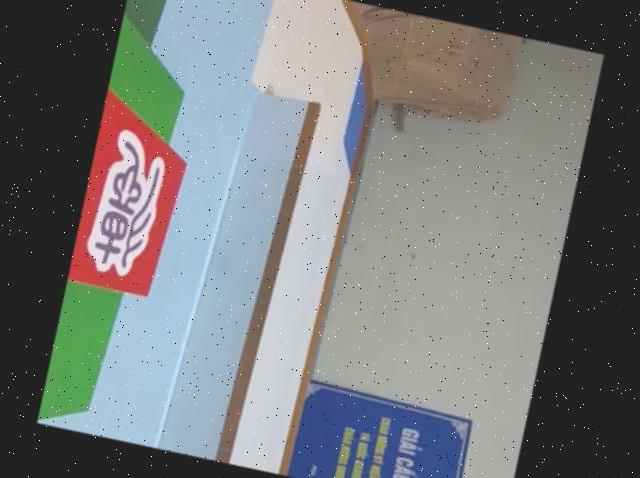R2 Fake: (67, 74, 216, 305)
